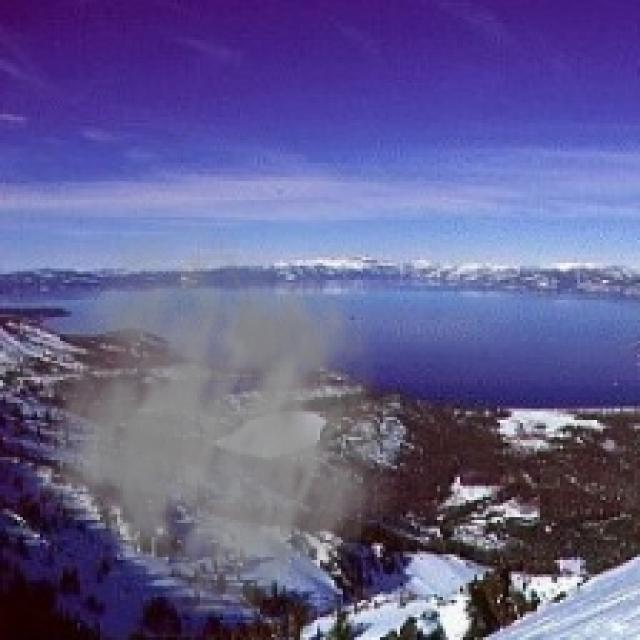Smoke: (17, 211, 397, 620)
